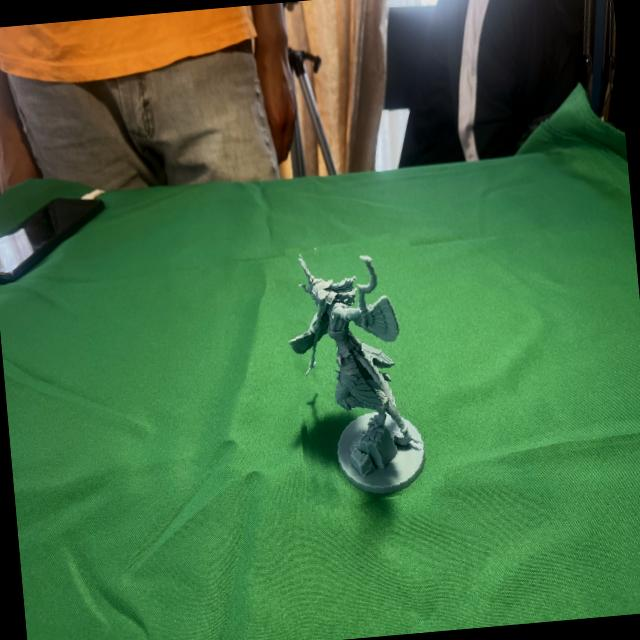isis: (277, 234, 439, 510)
